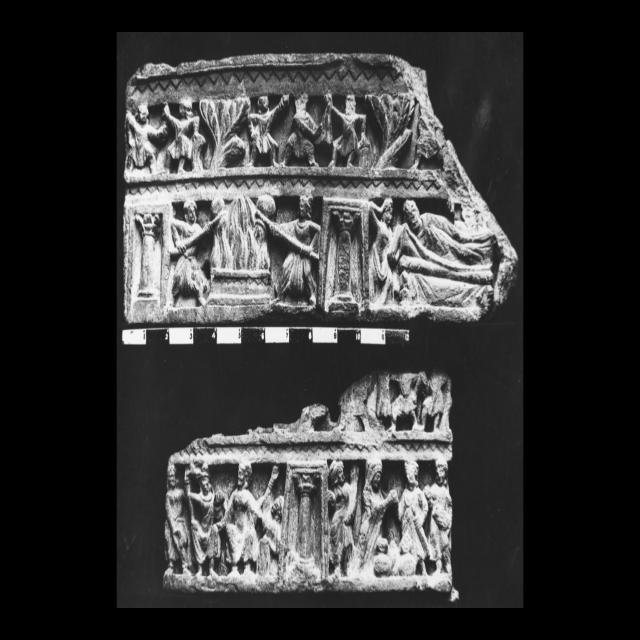buddha-pyre: (209, 196, 275, 304)
buddha-sleeping: (388, 200, 498, 318)
buddha-standing: (218, 460, 279, 573)
